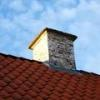chimneys: (28, 26, 78, 74)
